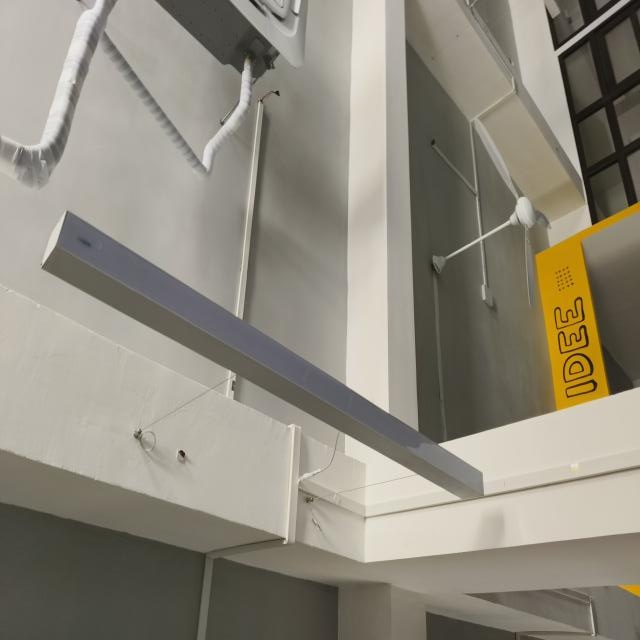fluorescent tube: (35, 200, 493, 505)
